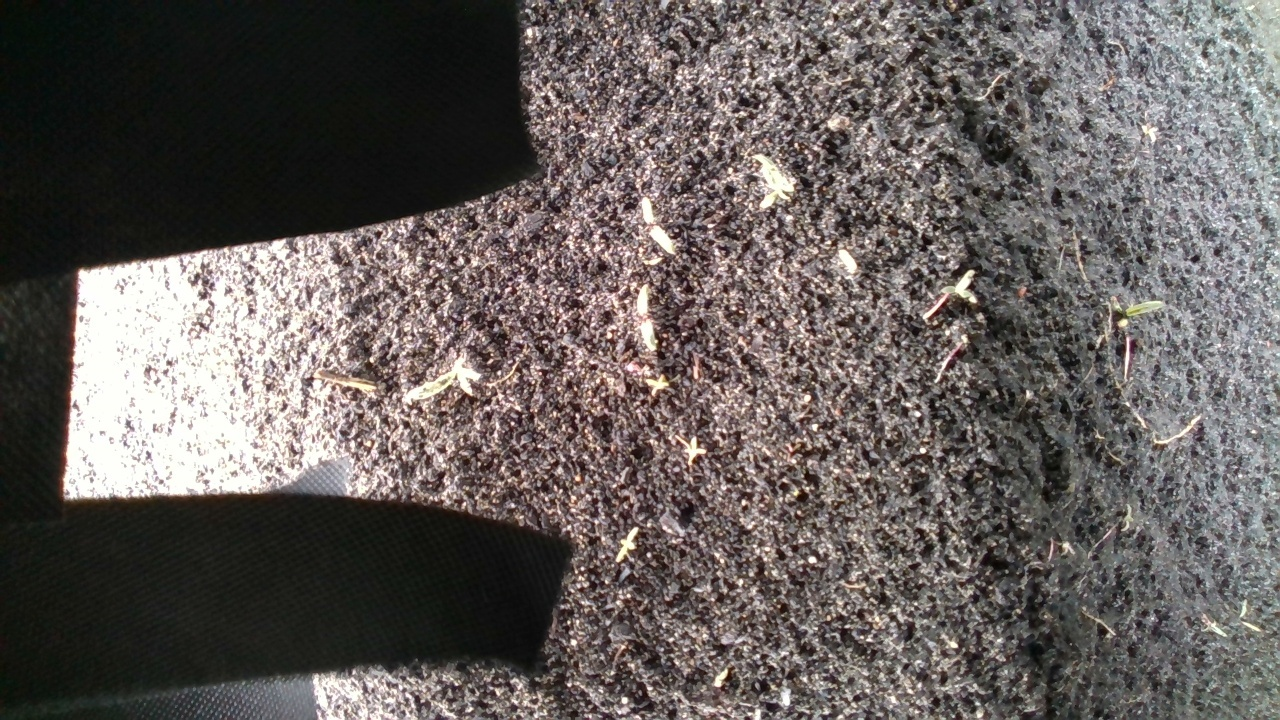weed: (638, 194, 679, 256), (632, 282, 661, 353), (1118, 298, 1168, 329), (948, 267, 979, 305), (645, 370, 687, 397), (613, 526, 640, 563), (678, 435, 711, 463)
